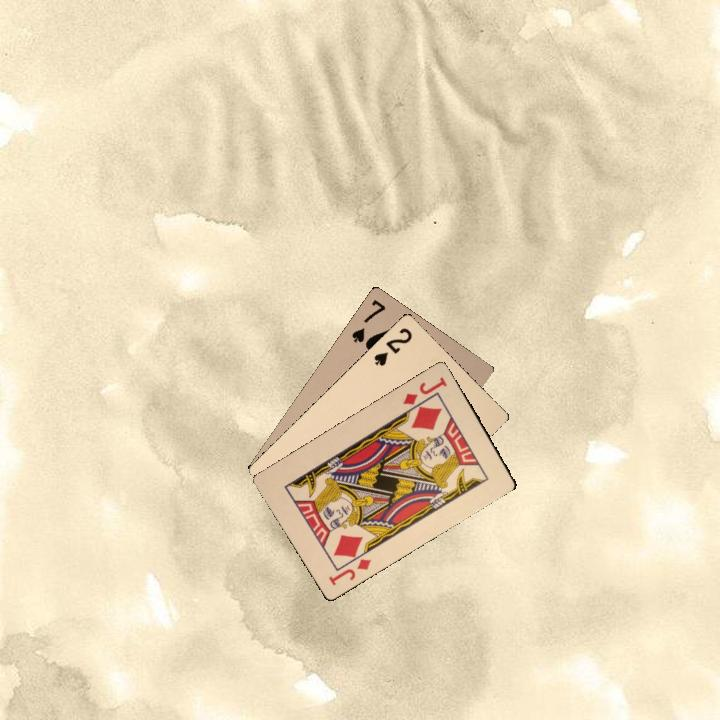2s: (370, 323, 415, 369)
7s: (347, 295, 388, 346)
Jd: (399, 373, 449, 408), (324, 555, 374, 588)
